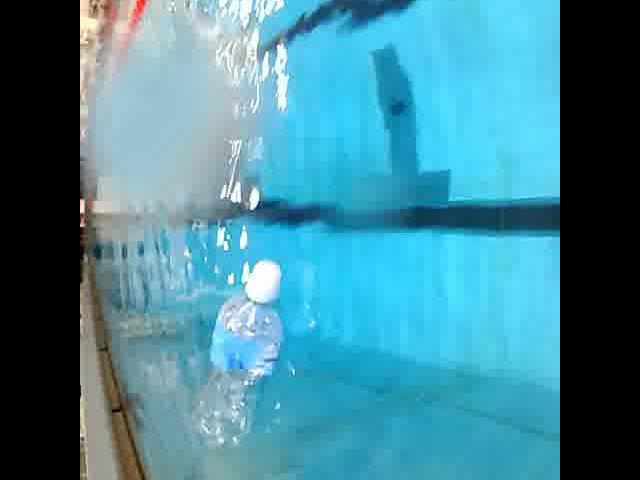Bottle: (184, 247, 290, 451)
